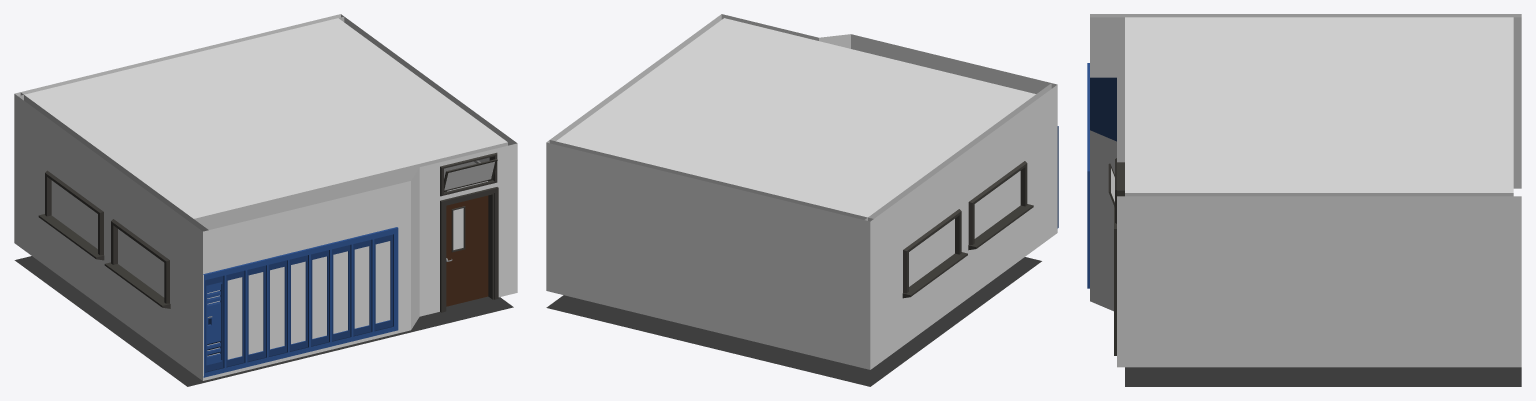
The model's file is classroom.fbx.
3 renders of one model, left to right at view 1: azimuth 30°, elevation 25°; view 2: azimuth 150°, elevation 25°; view 3: azimuth 270°, elevation 25°, orthographic. The views are drawn at different scales.
Visible parts, largest first — view 1: Ceiling, Door Wall, Wall (w/ windows), Door Wall (w/ lockers), Lockers, Floor, Door, Wall, Locker Door; view 2: Ceiling, Wall, Wall (w/ windows), Floor, Door Wall (w/ lockers), Door Wall; view 3: Door Wall (w/ lockers), Ceiling, Floor, Wall (w/ windows), Lockers, Door Wall.
Part boxes in pixels (x1,y1,x2,y2): Ceiling: (24,18,507,218); Door Wall: (194,17,517,380); Wall (w/ windows): (14,92,208,380); Door Wall (w/ lockers): (194,14,517,379); Lockers: (205,234,393,372); Floor: (14,256,513,386); Door: (446,195,488,306); Wall: (15,14,344,100); Locker Door: (206,282,222,365); Ceiling: (556,18,1035,217); Wall: (546,140,873,369); Wall (w/ windows): (865,83,1057,369); Floor: (546,257,1041,386); Door Wall (w/ lockers): (546,14,1058,228); Door Wall: (550,14,967,141); Door Wall (w/ lockers): (1087,63,1521,367); Ceiling: (1125,17,1513,192); Floor: (1125,367,1521,386); Wall (w/ windows): (1090,14,1521,188); Lockers: (1090,77,1116,141); Door Wall: (1108,158,1124,228).
Size of the model in its own units: 820 by 390 by 805.
